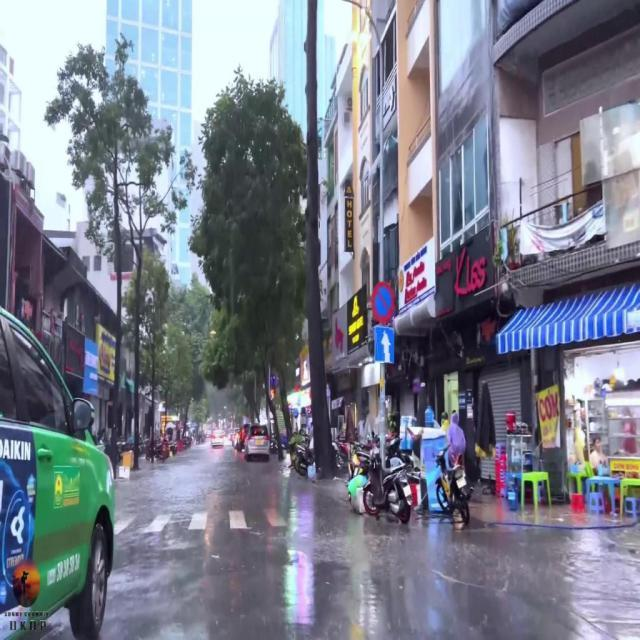131a-cam-do-xe: (369, 280, 395, 324)
407a-duong-mot-chieu: (374, 328, 394, 364)
